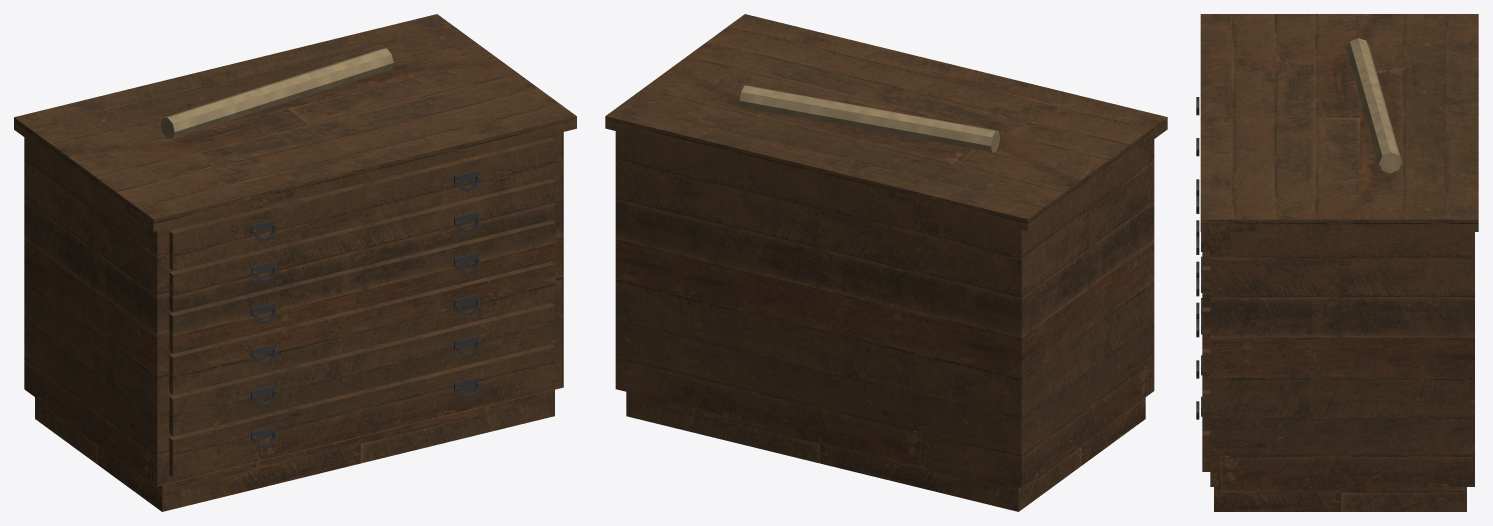
The model's file is map_chest.glb.
3 renders of one model, left to right at view 1: azimuth 30°, elevation 25°; view 2: azimuth 150°, elevation 25°; view 3: azimuth 270°, elevation 25°, orthographic.
Parts seen in each view (by area): view 1: map_chest; view 2: map_chest; view 3: map_chest.
Part boxes in pixels (x1=…): map_chest: x1=14, y1=14, x2=576, y2=511; map_chest: x1=605, y1=14, x2=1167, y2=511; map_chest: x1=1196, y1=14, x2=1478, y2=511.
Size of the model in its own units: 1.25 by 0.91 by 0.726.
3 materials, 2 textured.
